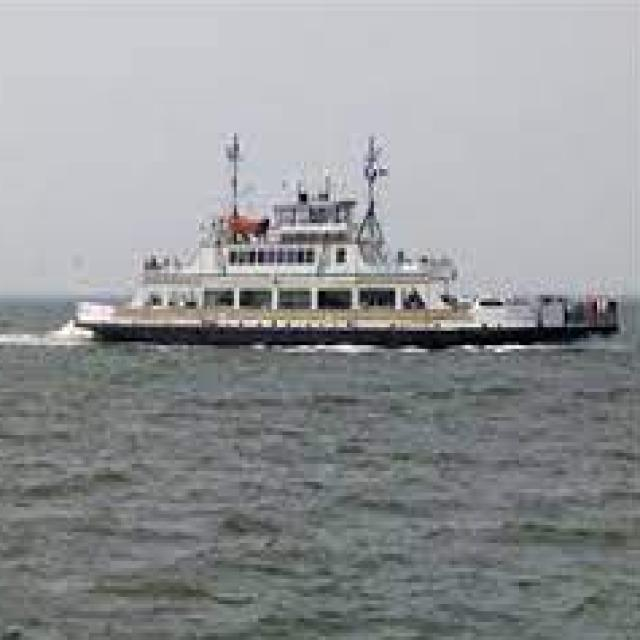fishing boat: (71, 158, 623, 350)
